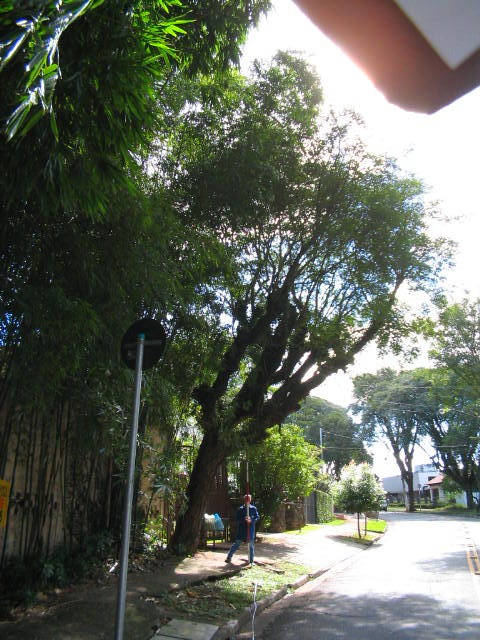crown: (172, 118, 458, 380)
stem: (165, 427, 237, 555)
stick: (238, 447, 254, 569)
tree: (167, 114, 459, 554)
